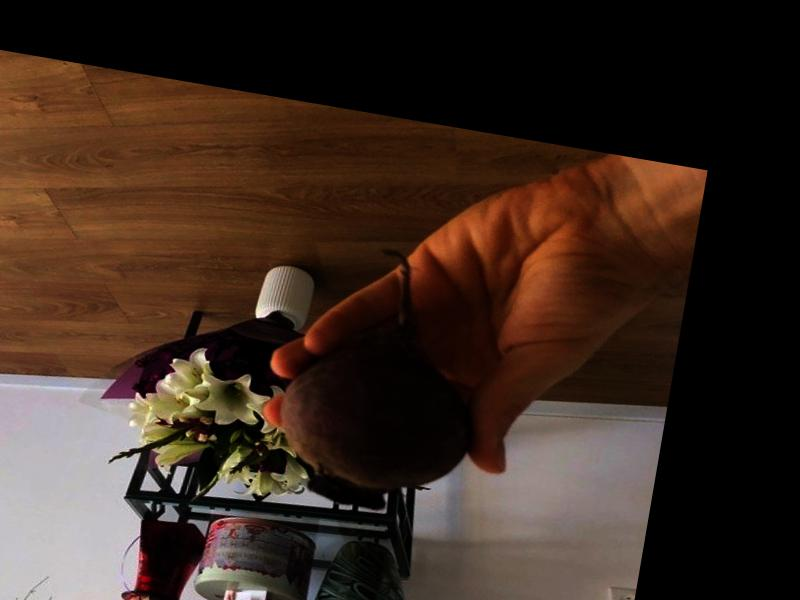Beet: (265, 237, 498, 523)
